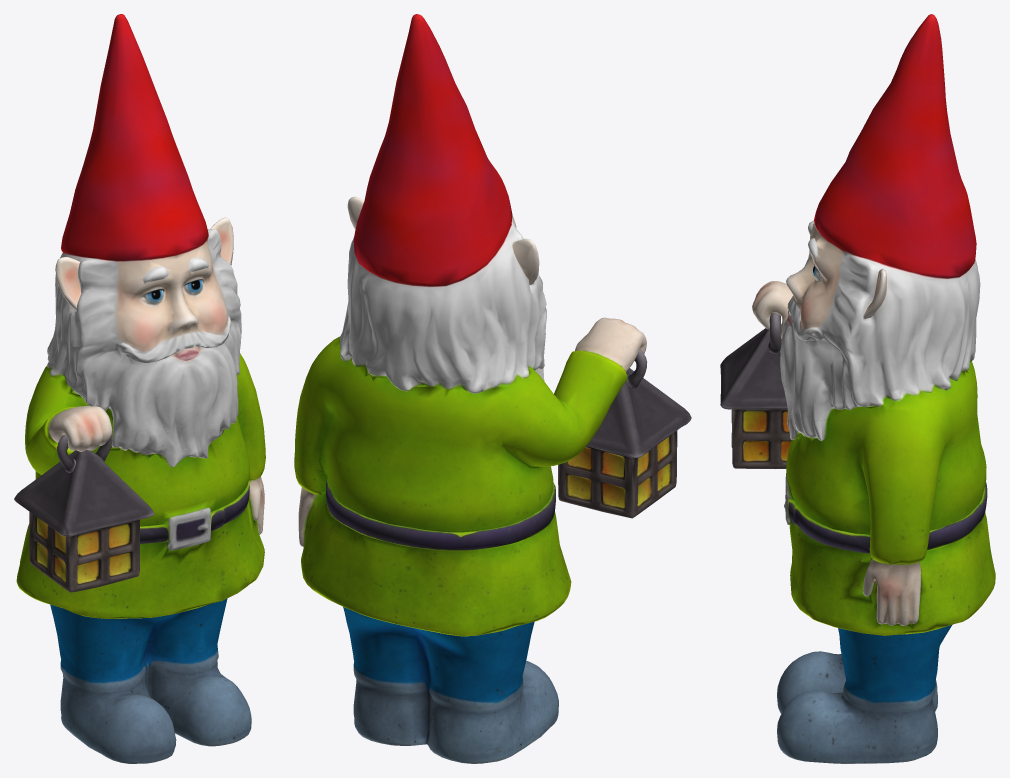
File: garden_gnome.glb
The picture shows the model from 3 angles, left to right: view 1: azimuth 30°, elevation 25°; view 2: azimuth 150°, elevation 25°; view 3: azimuth 270°, elevation 25°; orthographic projection. The views are drawn at different scales.
Visible parts, largest first — view 1: garden_gnome; view 2: garden_gnome; view 3: garden_gnome.
Part boxes in pixels (<box>): garden_gnome: <box>14,14,265,763</box>; garden_gnome: <box>294,14,691,763</box>; garden_gnome: <box>720,14,995,763</box>.
Size of the model in its own units: 0.2577 by 0.5991 by 0.2097.
1 material, 1 textured.
